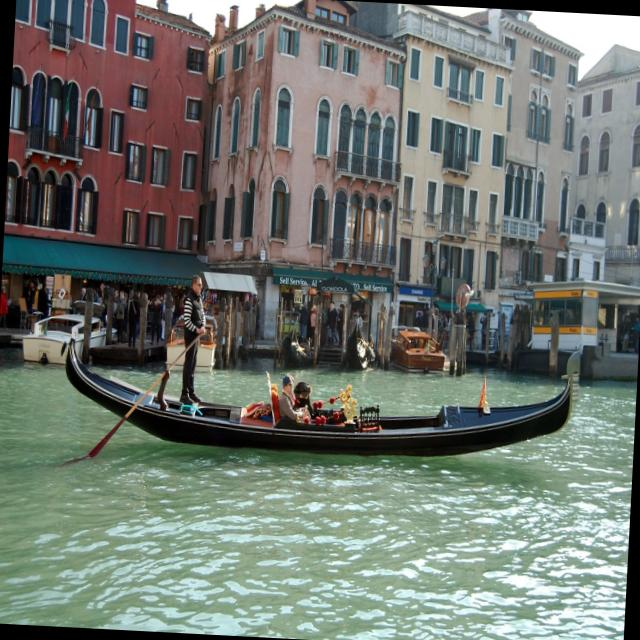boat: (55, 292, 586, 504)
